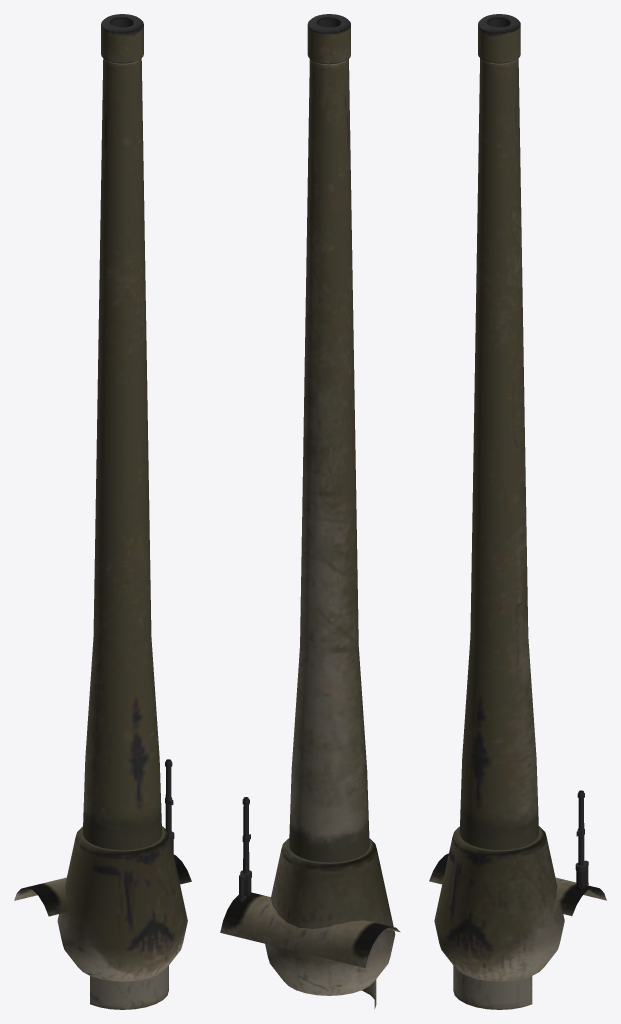
Rendered from Gun_05.glb.
3 views of the same model, side by side, from view 1: azimuth 30°, elevation 25°; view 2: azimuth 150°, elevation 25°; view 3: azimuth 330°, elevation 25° (orthographic).
Parts seen in each view (by area): view 1: set_0_group_0; view 2: set_0_group_0; view 3: set_0_group_0.
Part boxes in pixels (x1,y1,x2,y2): set_0_group_0: [14, 14, 191, 1009]; set_0_group_0: [220, 14, 400, 1008]; set_0_group_0: [429, 14, 606, 1009].
Bounding box in the file's own units: 0.6151 × 3.97 × 0.5039.
Materials: 1 (1 with a texture image).
